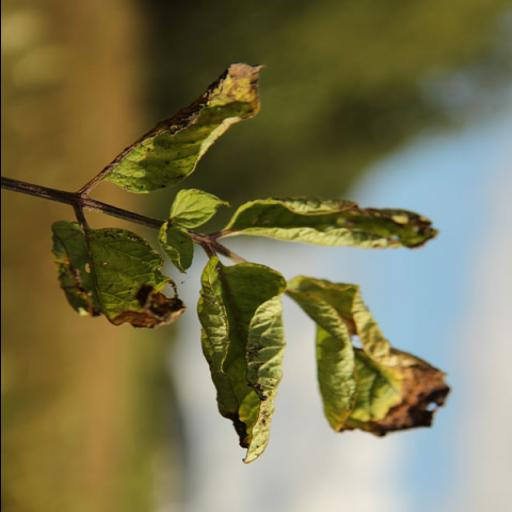Late Blight: (290, 279, 458, 441), (100, 60, 270, 194), (188, 257, 290, 467), (46, 215, 182, 335), (228, 190, 440, 254)
